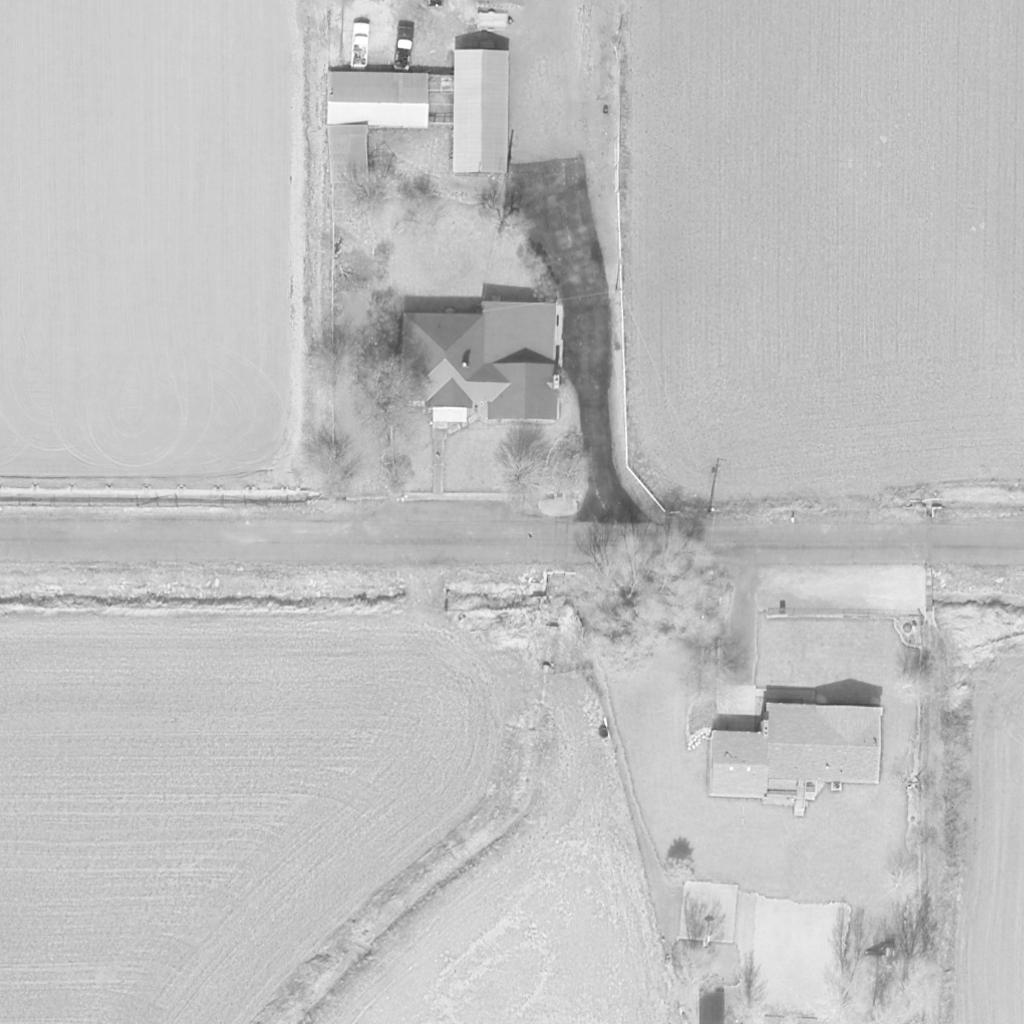vehicle: (392, 25, 416, 71), (350, 23, 370, 67)
